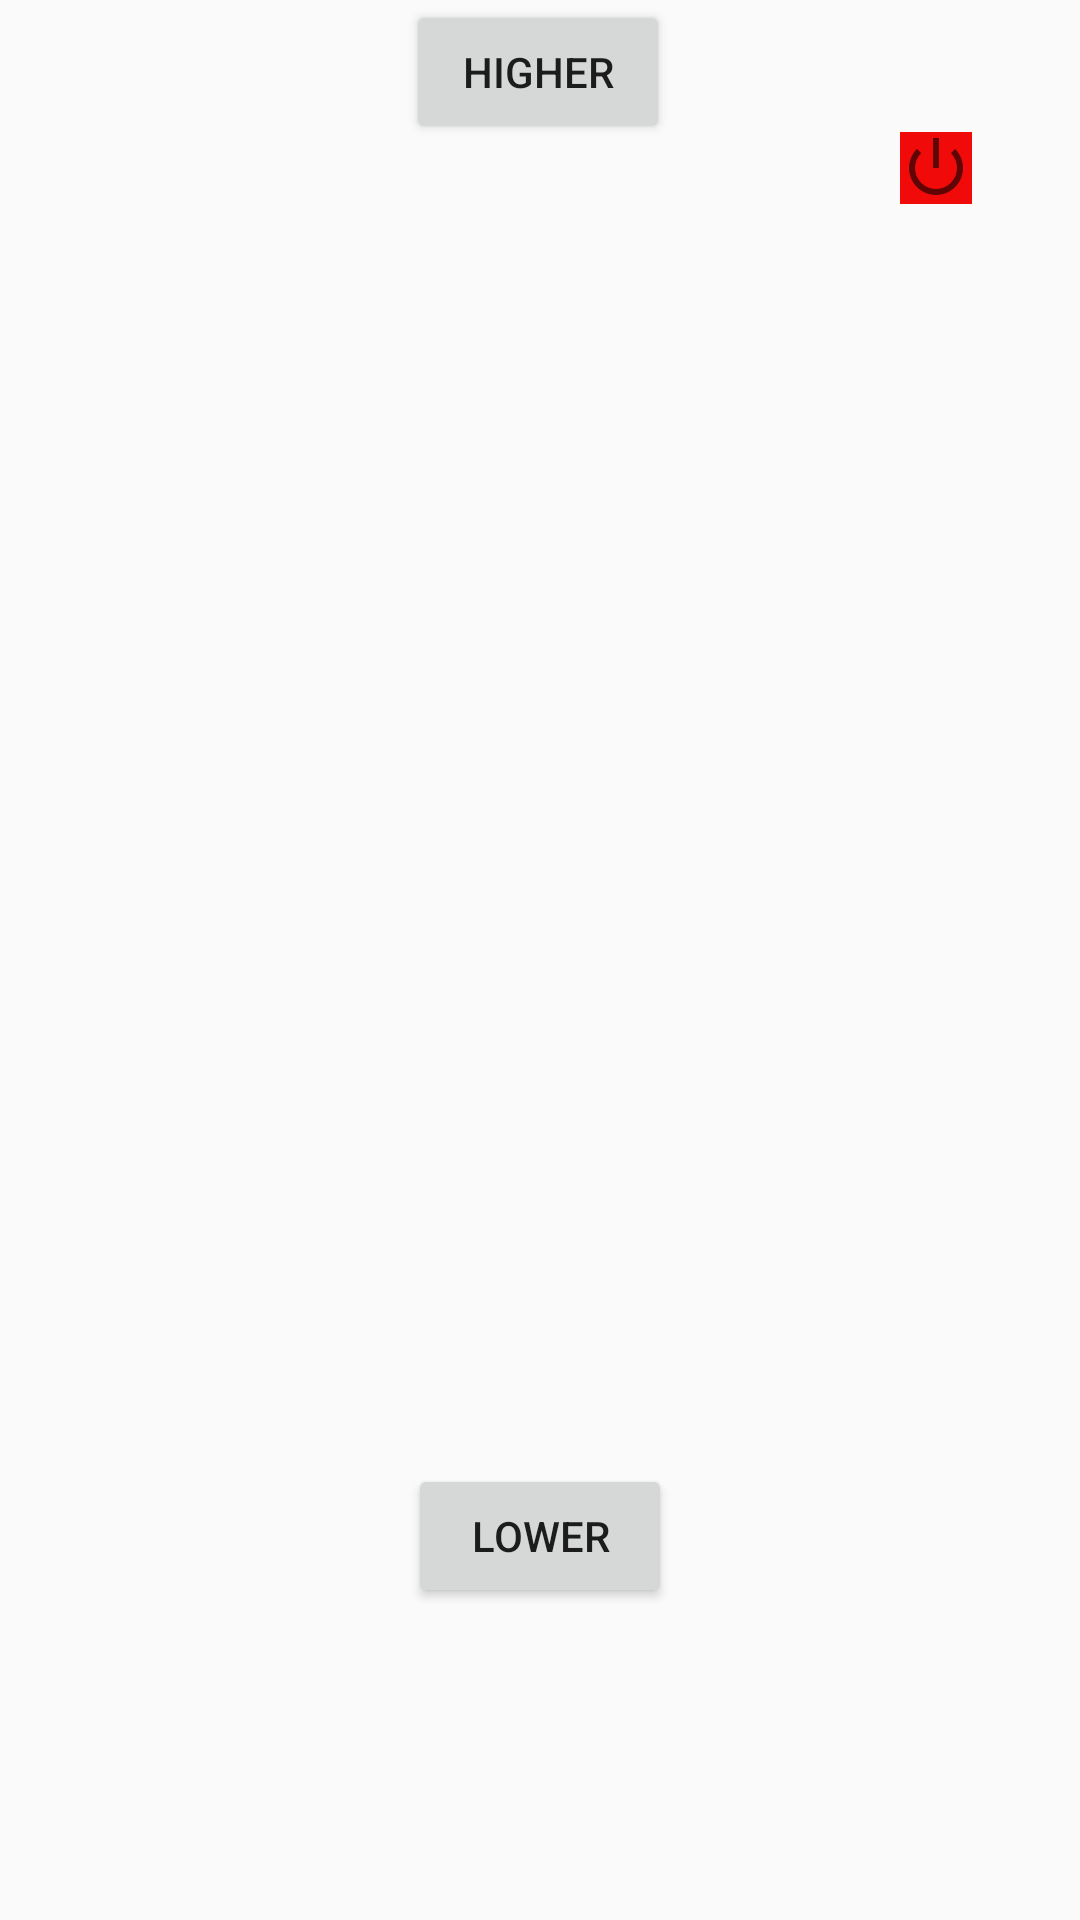

Named icons in this screenshot (1080px x 1920px) and their bounding boxes, (x1, y1, x2, y2):
lock power off: (900, 132, 972, 204)
